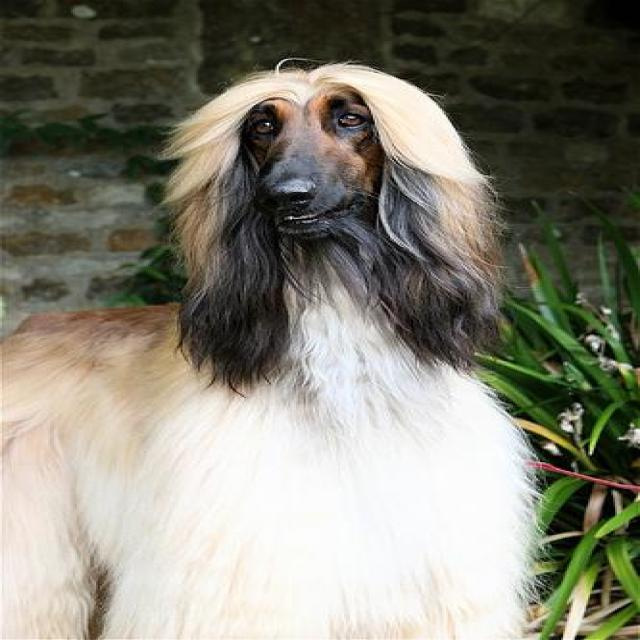afghan_hound: (2, 65, 536, 638)
